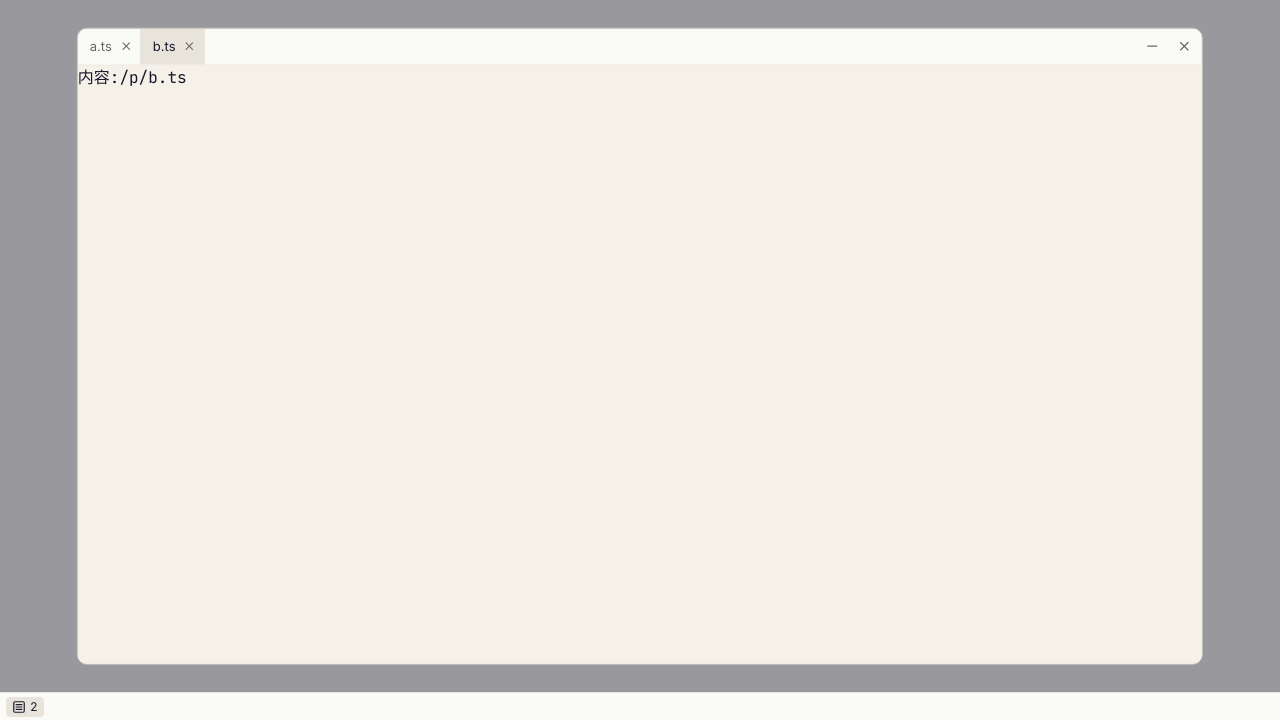
Test: FileViewer › 关闭单个标签移除它、保留其余
Expected: the tab "a.ts" is shown, [90,29,112,64]
Click the button named "关闭 a.ts". click: (126, 46)
box: [116,36,136,56]
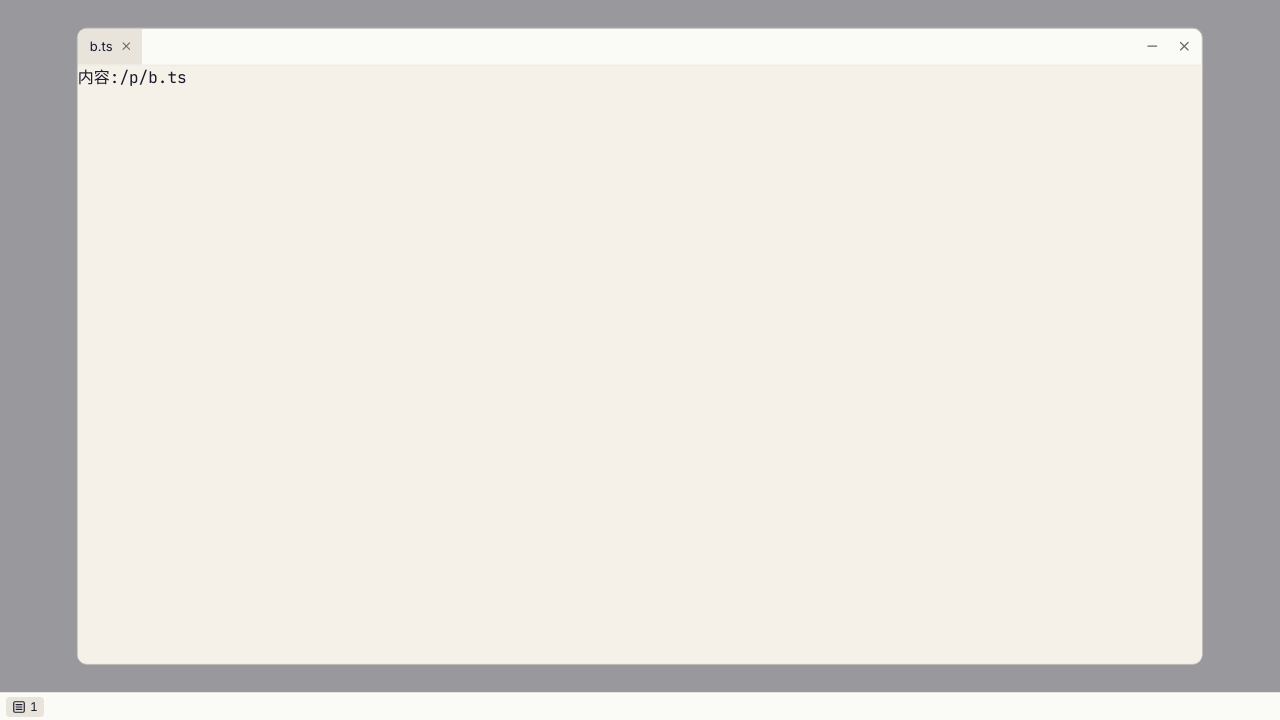
Expected: the tab "b.ts" is shown, [90,29,112,64]
Expected: the tab "a.ts" is gone
